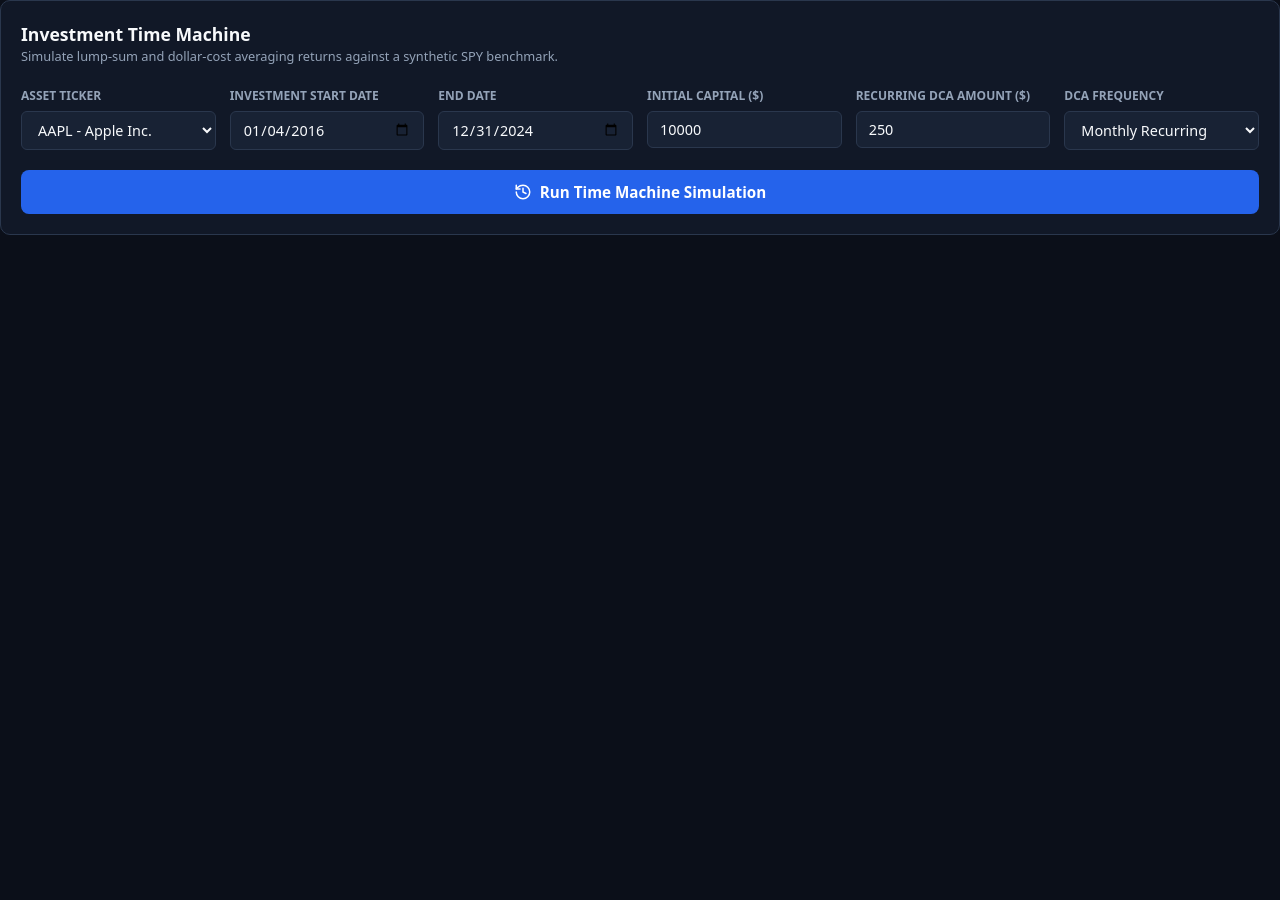
Test case: TimeMachine & Scenarios Components › TimeMachineCalculator calculate success shows result
Click the button "Run Time Machine Simulation".
click(640, 192)  # box left=21, top=170, right=1259, bottom=214
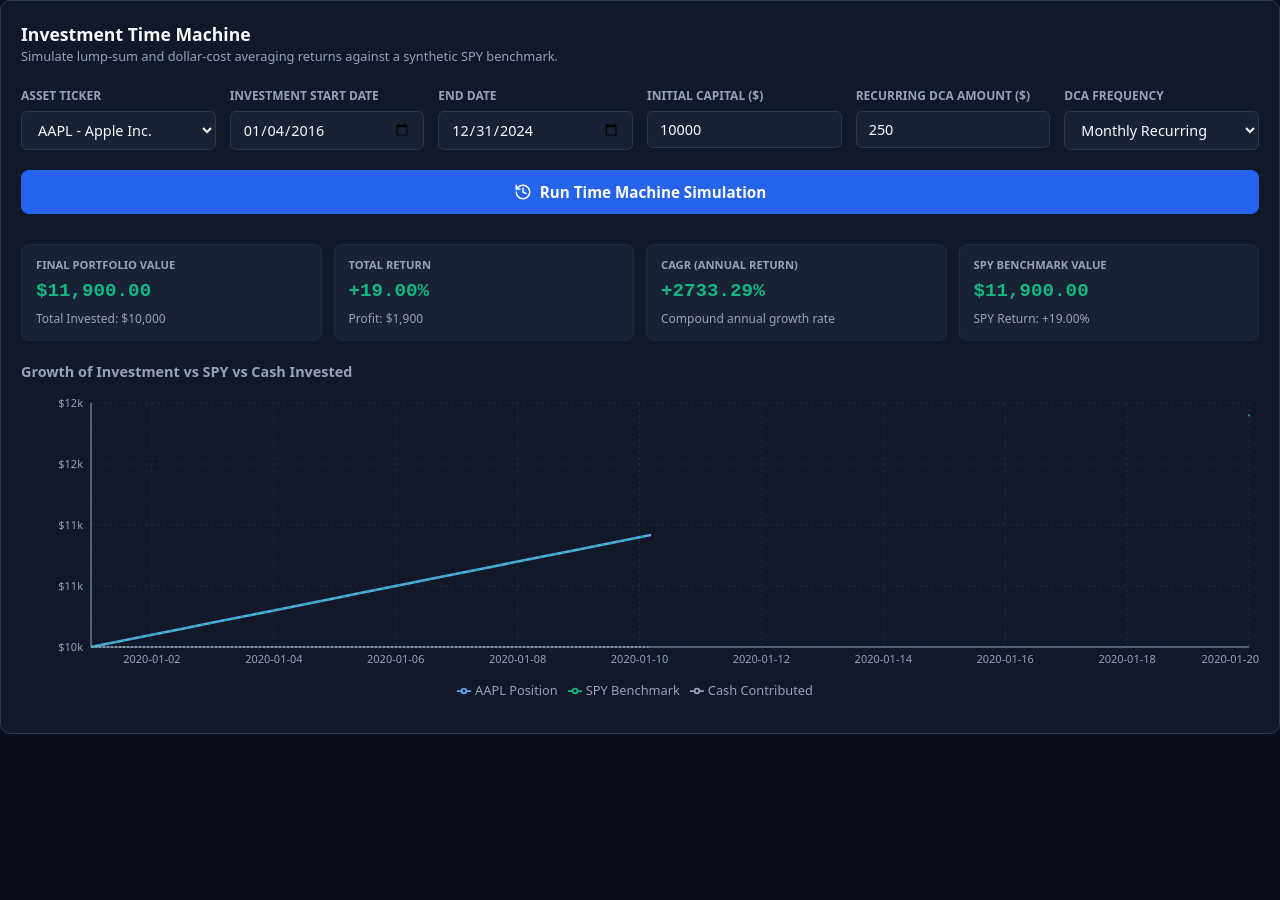
Now the text "Final Portfolio Value" is shown, box left=36, top=257, right=175, bottom=272
